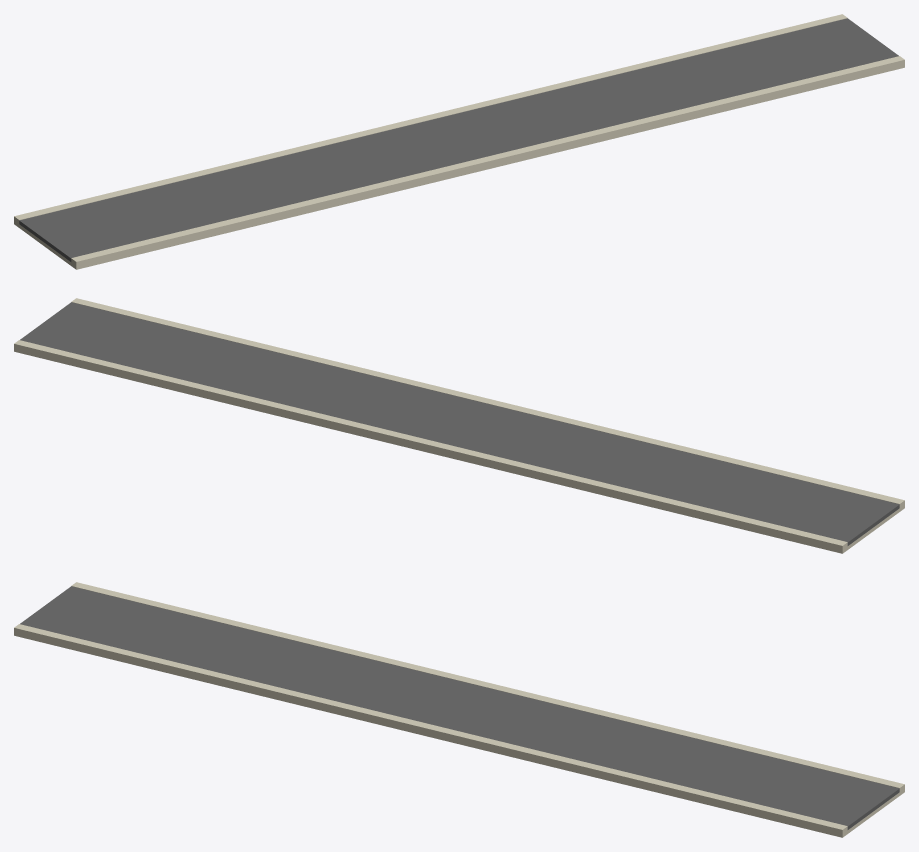
Rendered from kenney-road-wide.obj.
3 renders of one model, top to bottom at view 1: azimuth 30°, elevation 25°; view 2: azimuth 150°, elevation 25°; view 3: azimuth 330°, elevation 25°, orthographic.
Bounding box in the file's own units: 46 × 0.42 × 6.
Materials: 3 (3 with a texture image).
